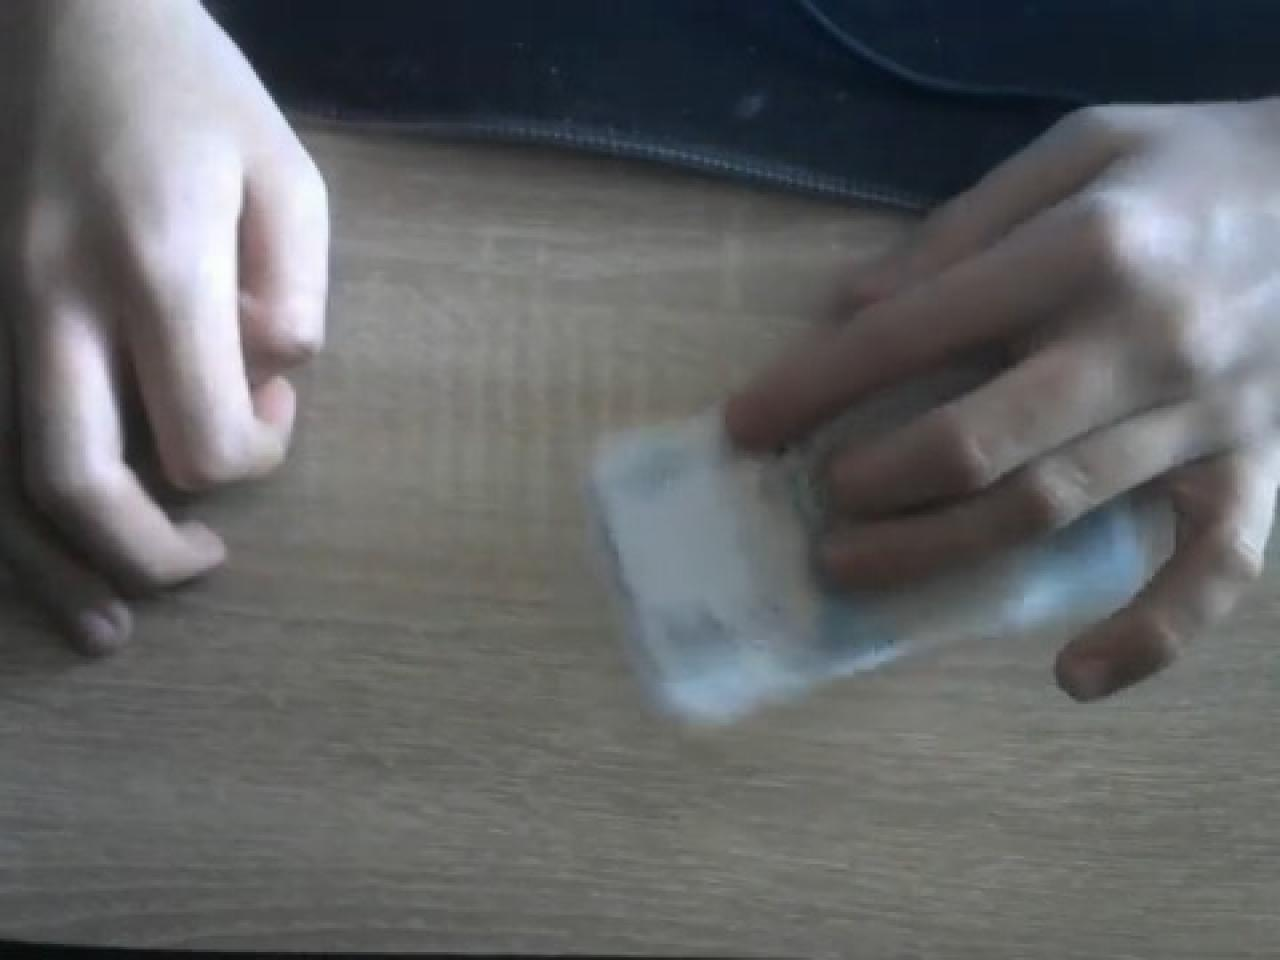20leva: (584, 410, 1171, 728)
